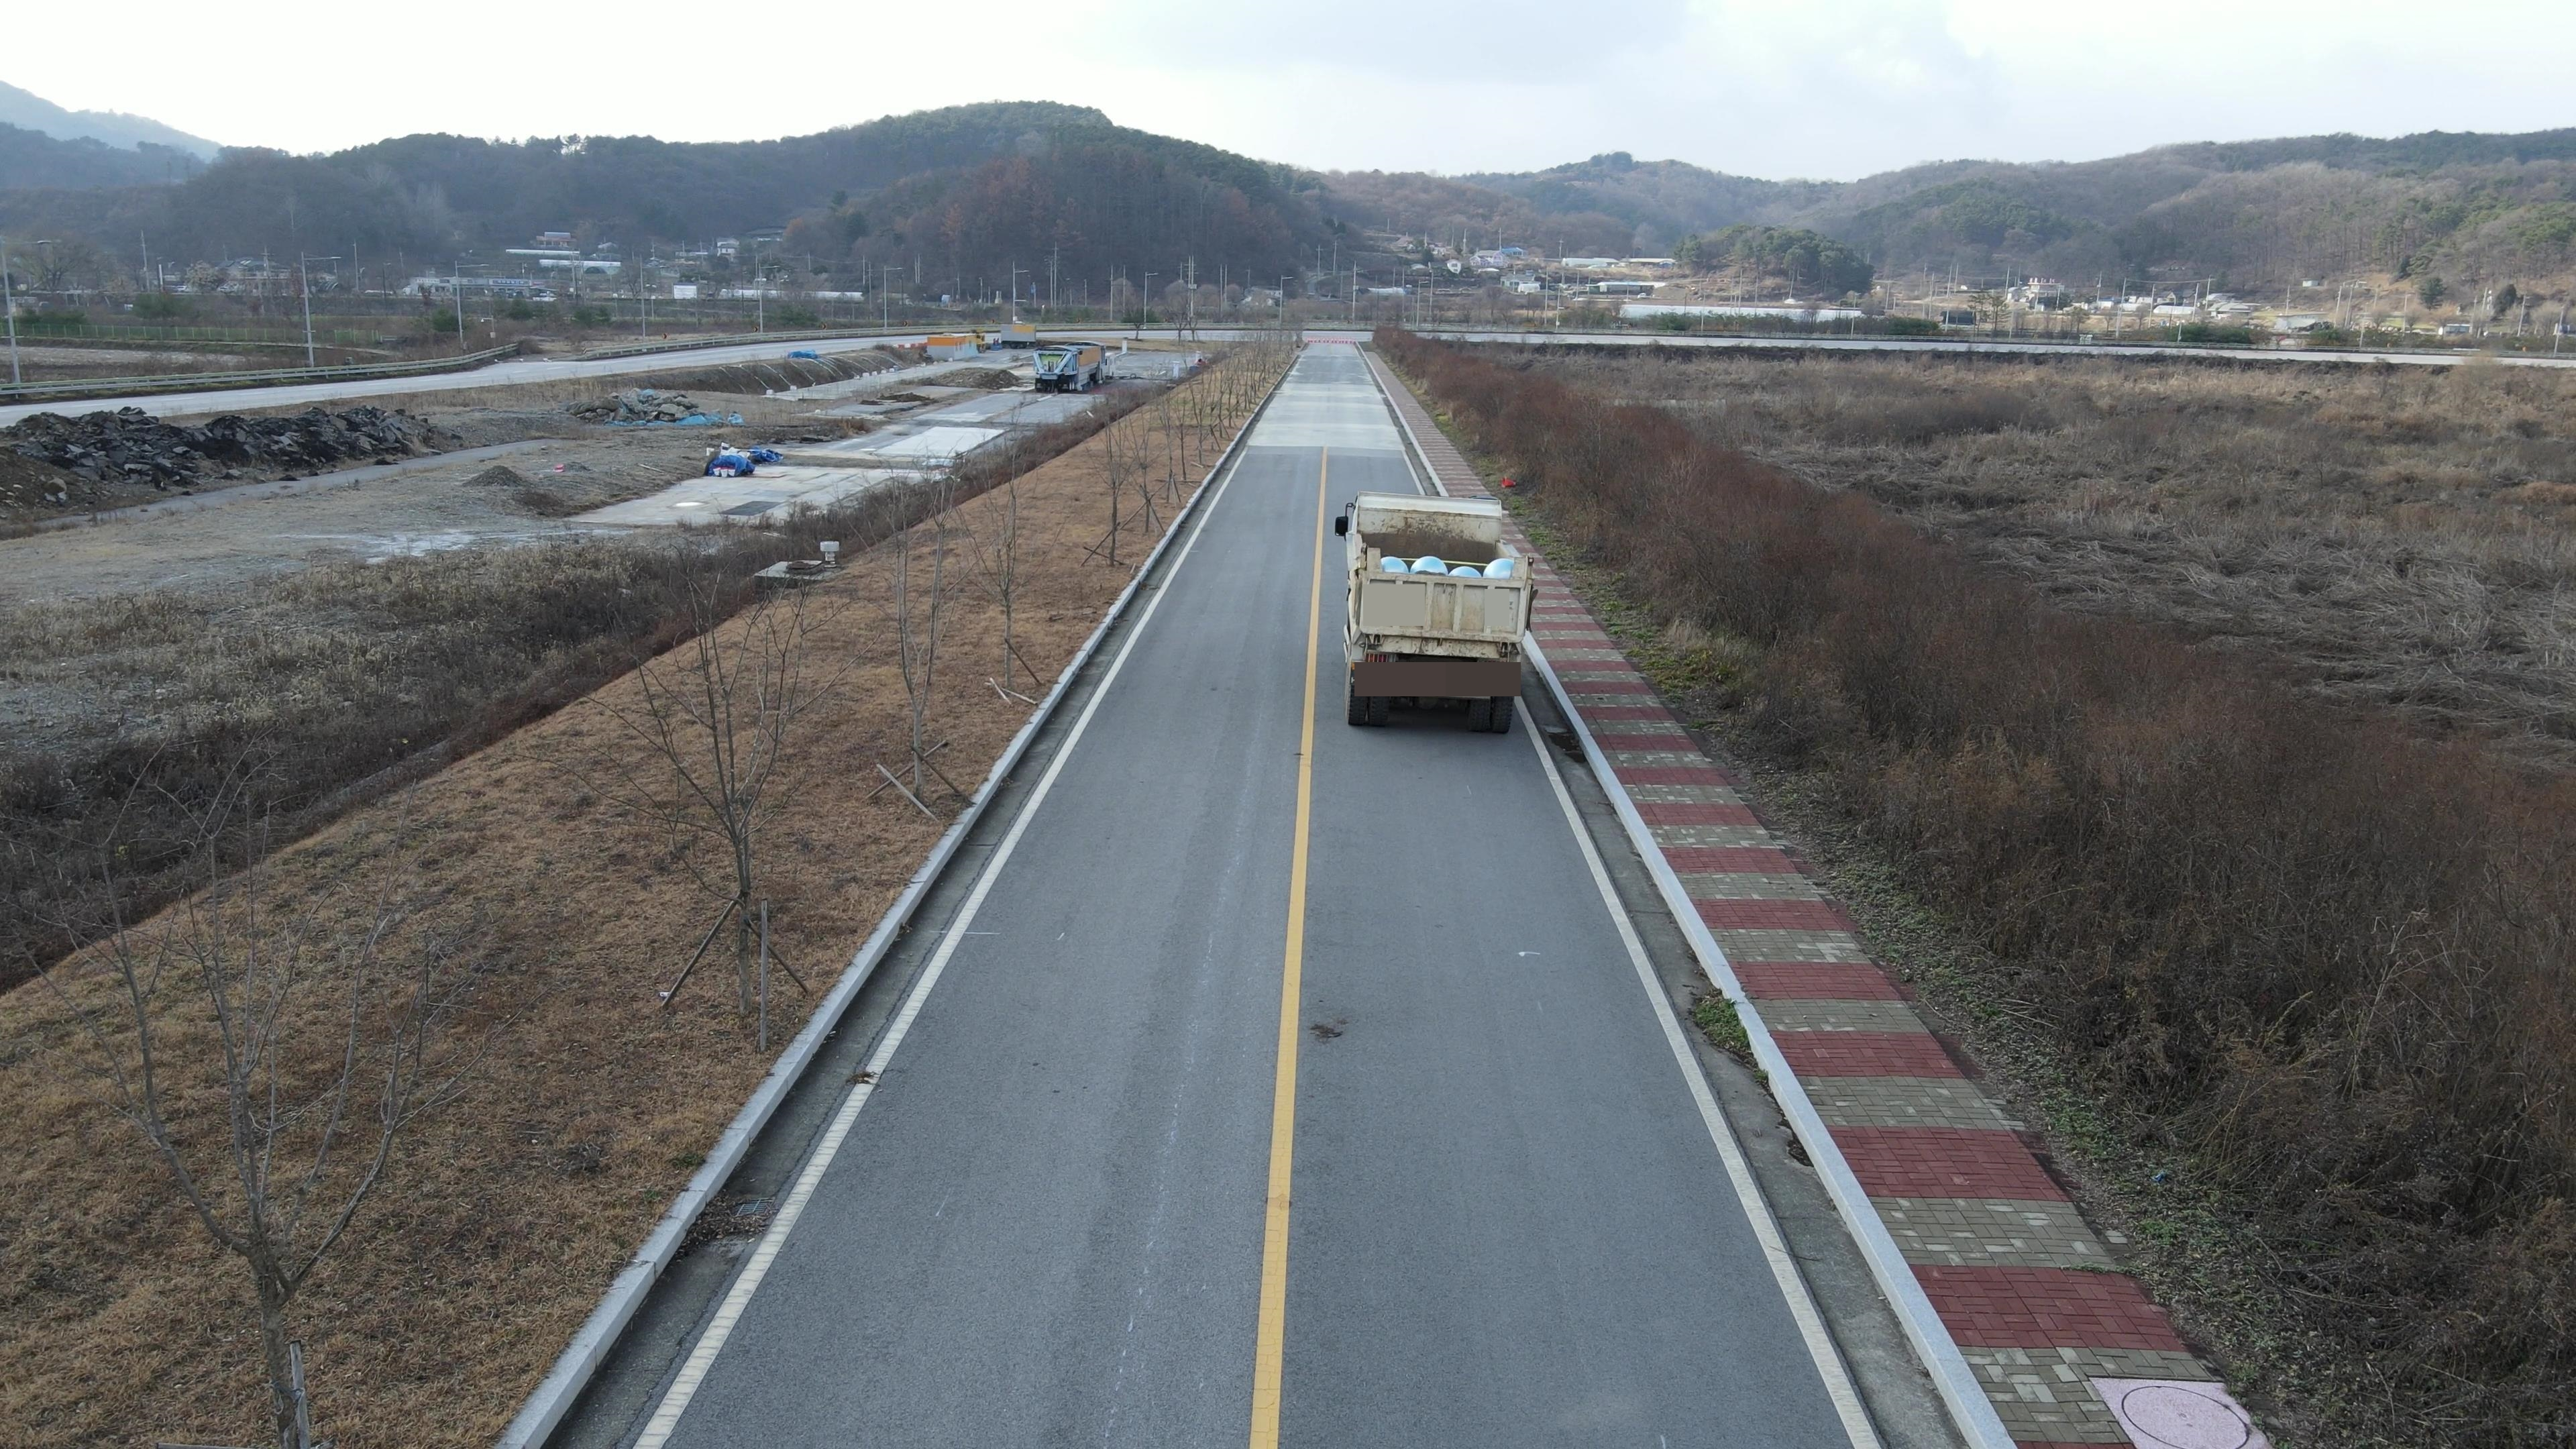불법차량: (1334, 490, 1538, 733)
